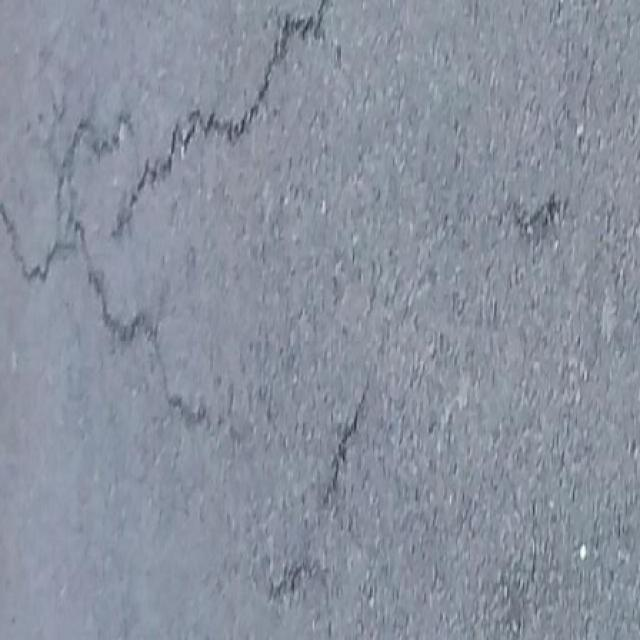Diagonal Crack: (0, 109, 264, 446), (109, 3, 345, 252), (292, 364, 382, 534), (497, 194, 578, 248), (258, 550, 329, 603)
